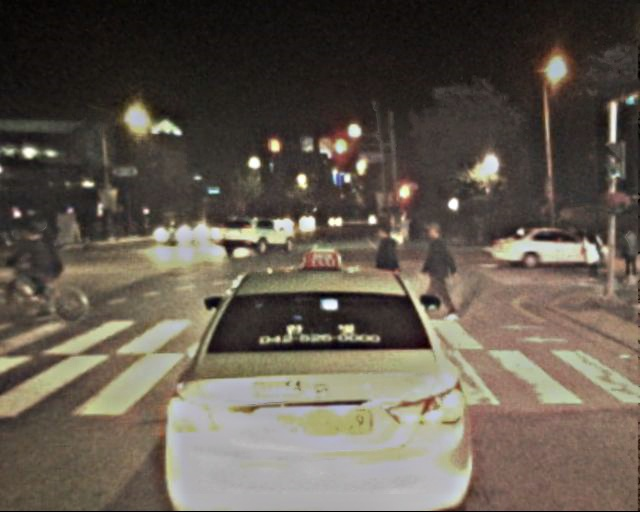person: (16, 220, 67, 310), (364, 226, 406, 328), (415, 227, 457, 329), (578, 224, 604, 288), (614, 226, 640, 289)
